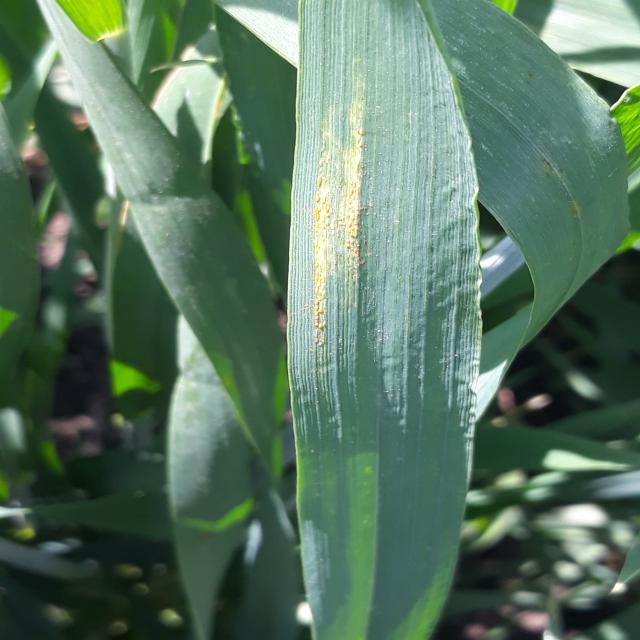yellow_rust: (273, 9, 504, 504)
